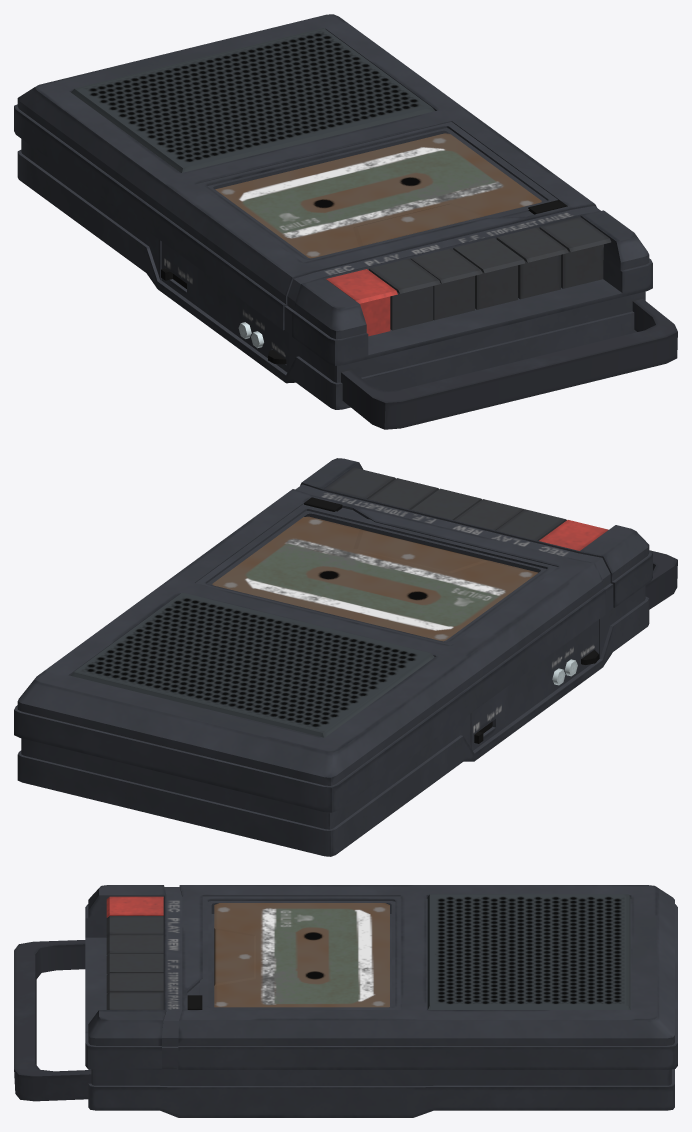
3 renders of one model, top to bottom at view 1: azimuth 30°, elevation 25°; view 2: azimuth 150°, elevation 25°; view 3: azimuth 270°, elevation 25°, orthographic. The views are drawn at different scales.
Parts seen in each view (by area): view 1: Audio Recorder; view 2: Audio Recorder; view 3: Audio Recorder.
Boxes of the visible parts, x1,y1,x2,y2 form: Audio Recorder: (14,14,677,429); Audio Recorder: (14,458,677,856); Audio Recorder: (14,885,677,1117).
Size of the model in its own units: 0.1128 by 0.0352 by 0.2181.
1 material, 1 textured.
